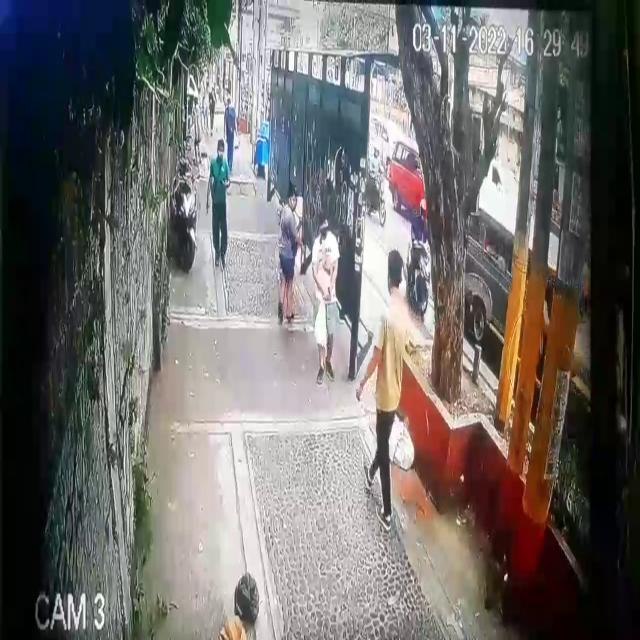garbage_dumping: (313, 290, 330, 349)
